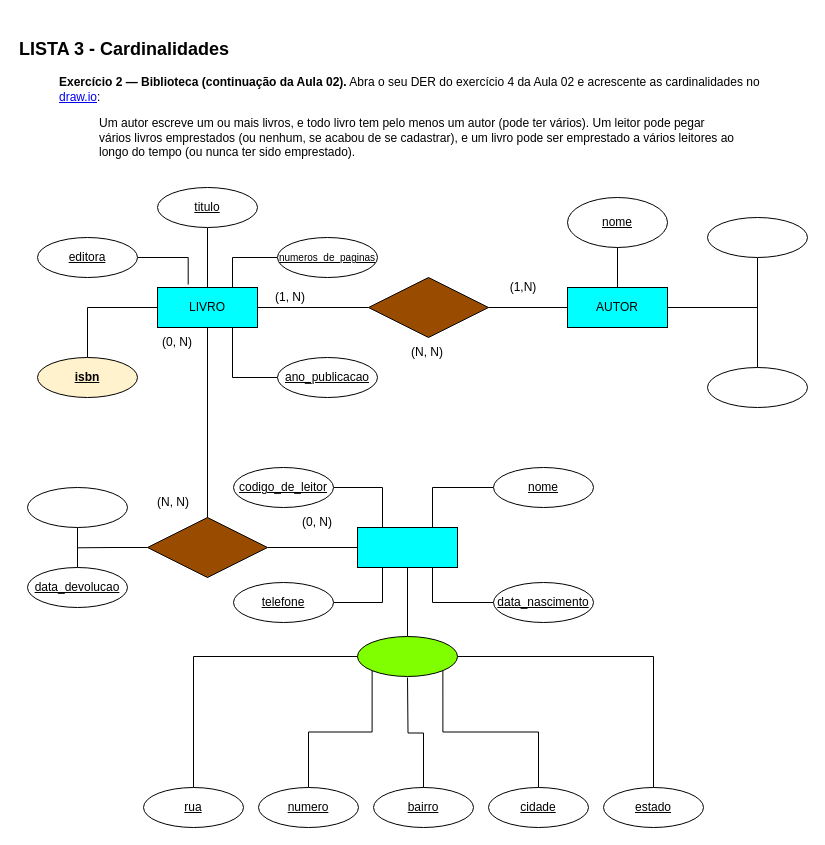
The diagram is 825 pixels wide and 845 high, and some of its shapes have lost their labels. The shapes that lost their labels are listed below. From the top down, each one's centre as x and y in pixels, then its label:
At point (757, 237): "nacionalidade".
At point (428, 307): "escreve".
At point (757, 387): "codigo_autor".
At point (77, 507): "data_emprestimo".
At point (207, 547): "empresta".
At point (407, 547): "LEITOR".
At point (407, 656): "endereco".
